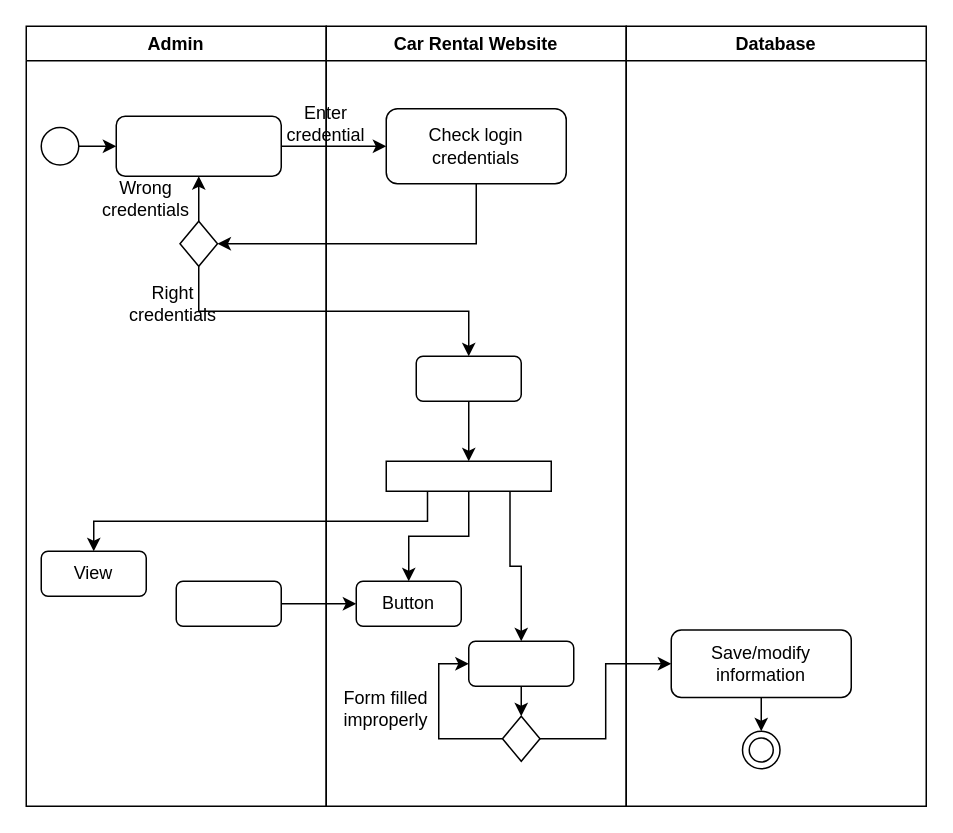
The diagram is 953 pixels wide and 833 high, and some of its shapes have lost their labels. Here are the shapes that lost their labels. From the top down, the centre of each, then its label:
At point 198,145: "Login".
At point 468,378: "Sidebar".
At point 228,603: "Delete".
At point 520,663: "Car forms".
